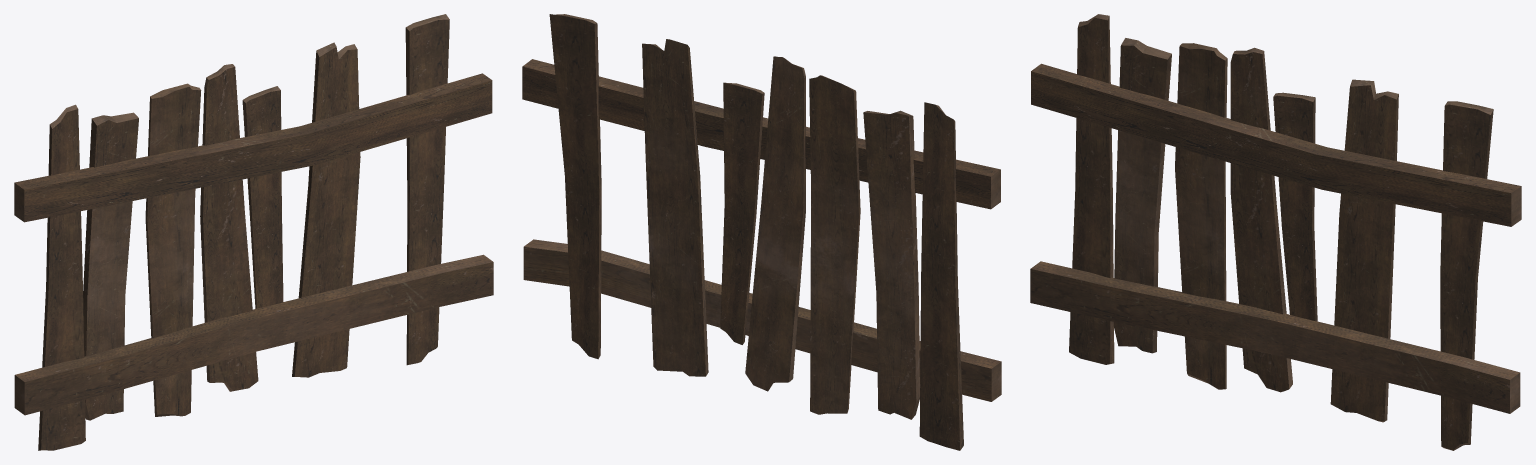
The model's file is SM_Fence_01.fbx.
The picture shows the model from 3 angles, left to right: view 1: azimuth 30°, elevation 25°; view 2: azimuth 150°, elevation 25°; view 3: azimuth 330°, elevation 25°; orthographic projection. The views are drawn at different scales.
Parts seen in each view (by area): view 1: SM_Fence_01_LOD0; view 2: SM_Fence_01_LOD0; view 3: SM_Fence_01_LOD0.
Part boxes in pixels (bbox=[...]): SM_Fence_01_LOD0: bbox=[14, 14, 493, 450]; SM_Fence_01_LOD0: bbox=[522, 14, 1001, 450]; SM_Fence_01_LOD0: bbox=[1030, 14, 1521, 450].
Size of what is drawn, in the model's own units: 201 by 142 by 13.55.
